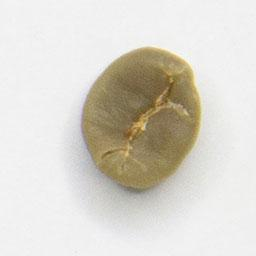premium: (78, 43, 205, 195)
